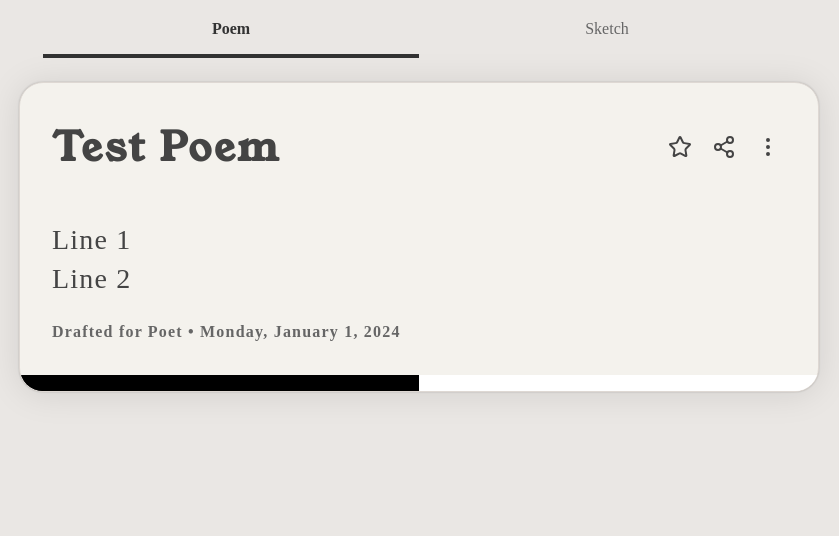
it: Poem › renders and switches tabs
The image size is (839, 536).
Click Sketch tab
Click the button "Sketch" at (607, 35), box [419,12,795,58]
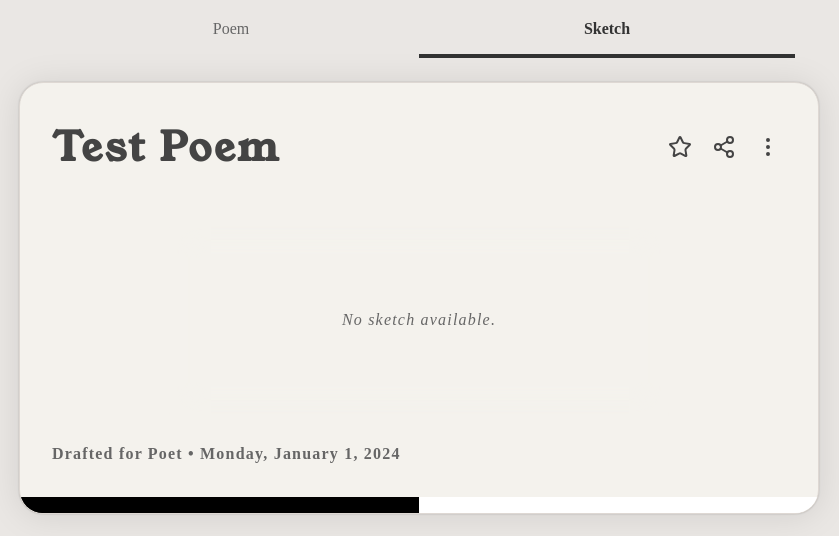
expect the text "No sketch available." is shown: met, box [342,310,496,330]
